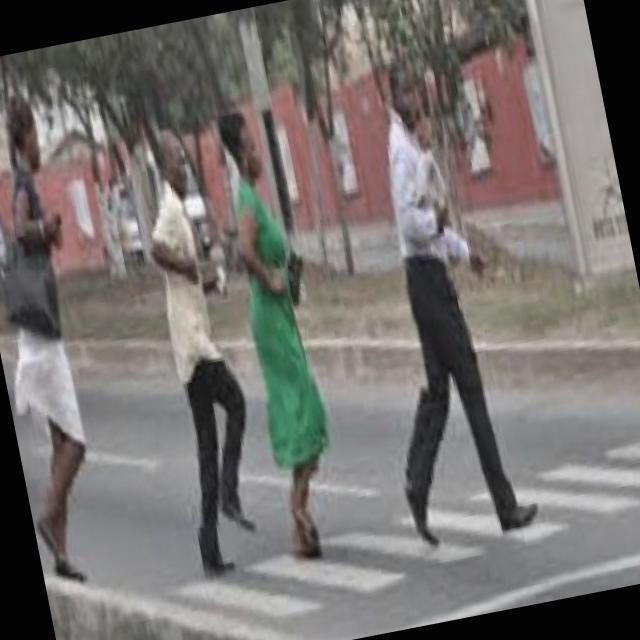Person: (312, 48, 550, 558), (196, 98, 366, 564), (114, 114, 277, 584), (0, 79, 135, 590)
